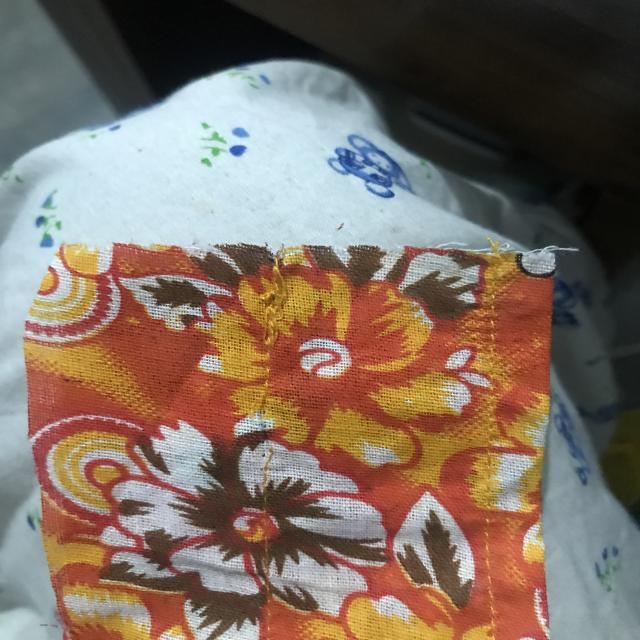broken: (244, 386, 292, 491)
good: (468, 524, 504, 598)
